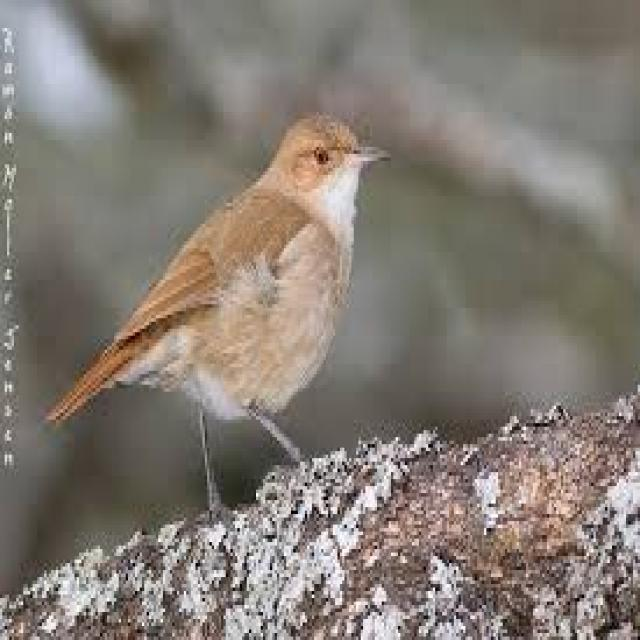bird: (39, 115, 408, 542)
